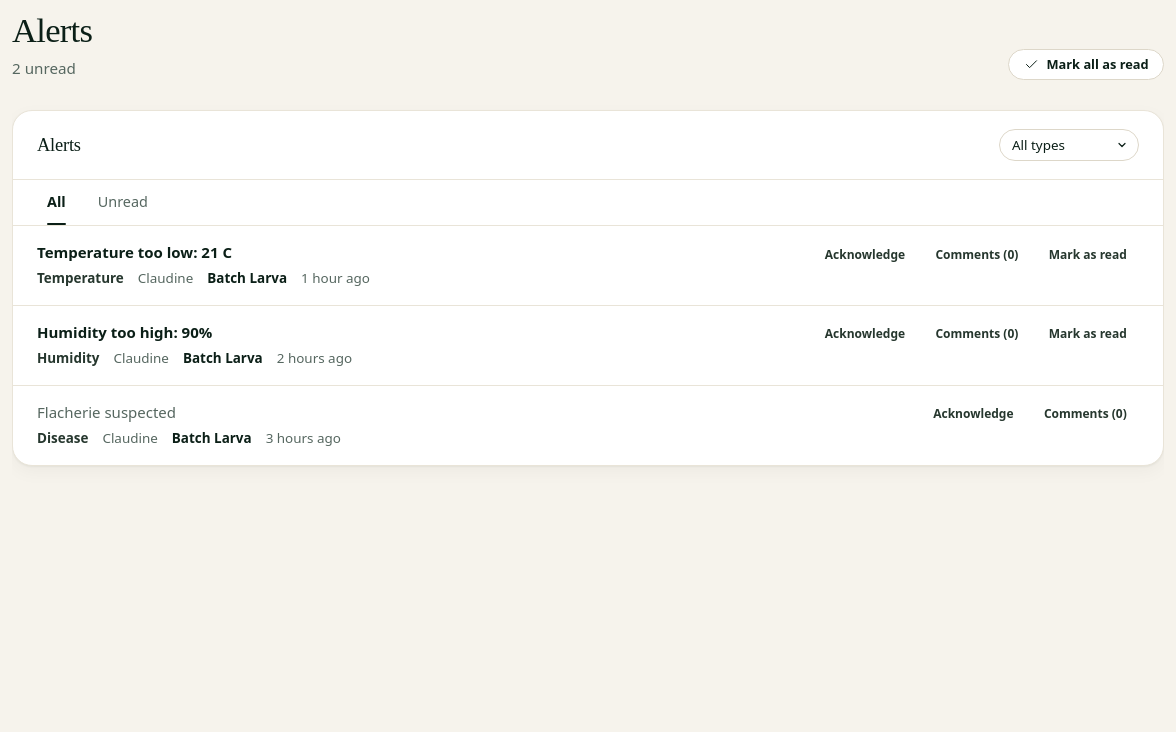
Test: Alerts page › acknowledging › acknowledges, shows who and when, and offers to take it back
Click the button "Acknowledge" in the row of "Temperature too low: 21 C": (865, 255) x1=813 y1=242 x2=917 y2=267
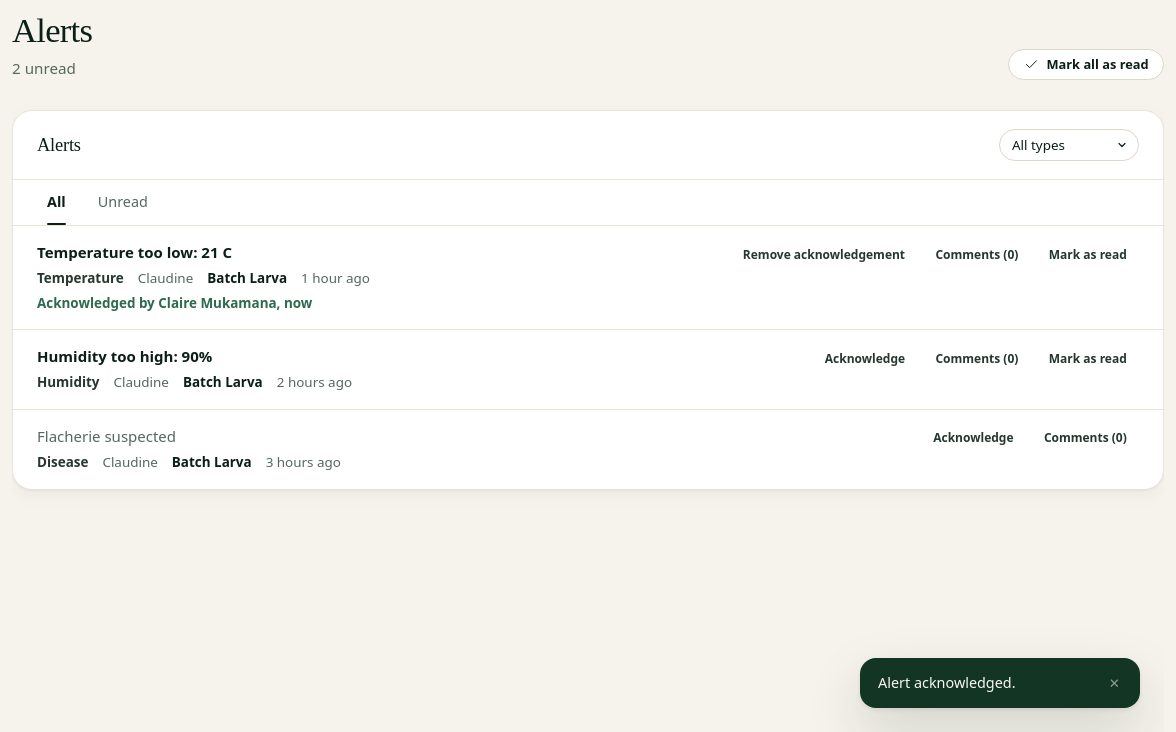
Now the text "Acknowledged by Claire Mukamana, now" is shown, box x1=37 y1=294 x2=312 y2=312
Now the button "Remove acknowledgement" is shown, box x1=731 y1=242 x2=917 y2=267
Now the text "Alert acknowledged." is shown, box x1=878 y1=673 x2=1016 y2=692
